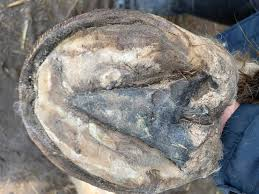horsesole: (19, 9, 194, 194)
